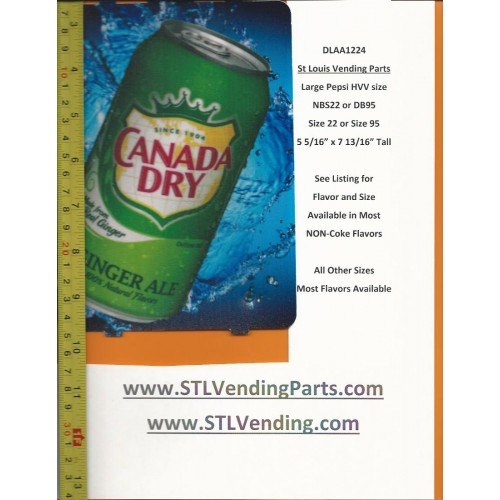Lata: (85, 17, 273, 332)
